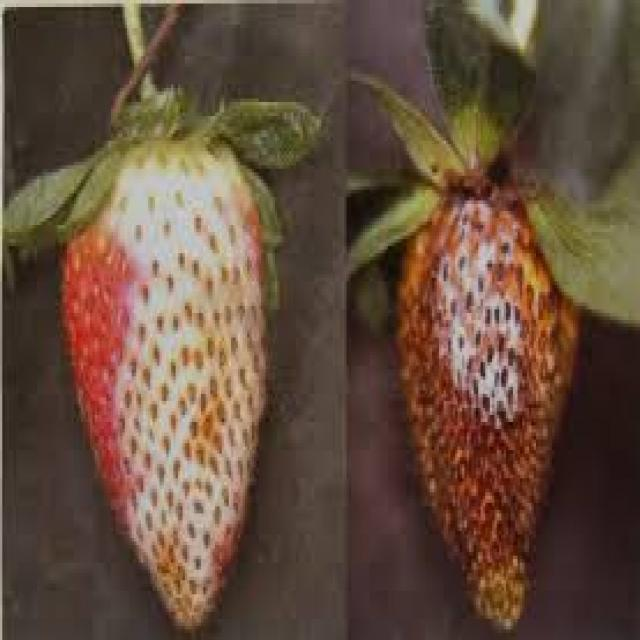Podredumbre de cuero: (64, 123, 290, 626), (393, 173, 584, 622)
